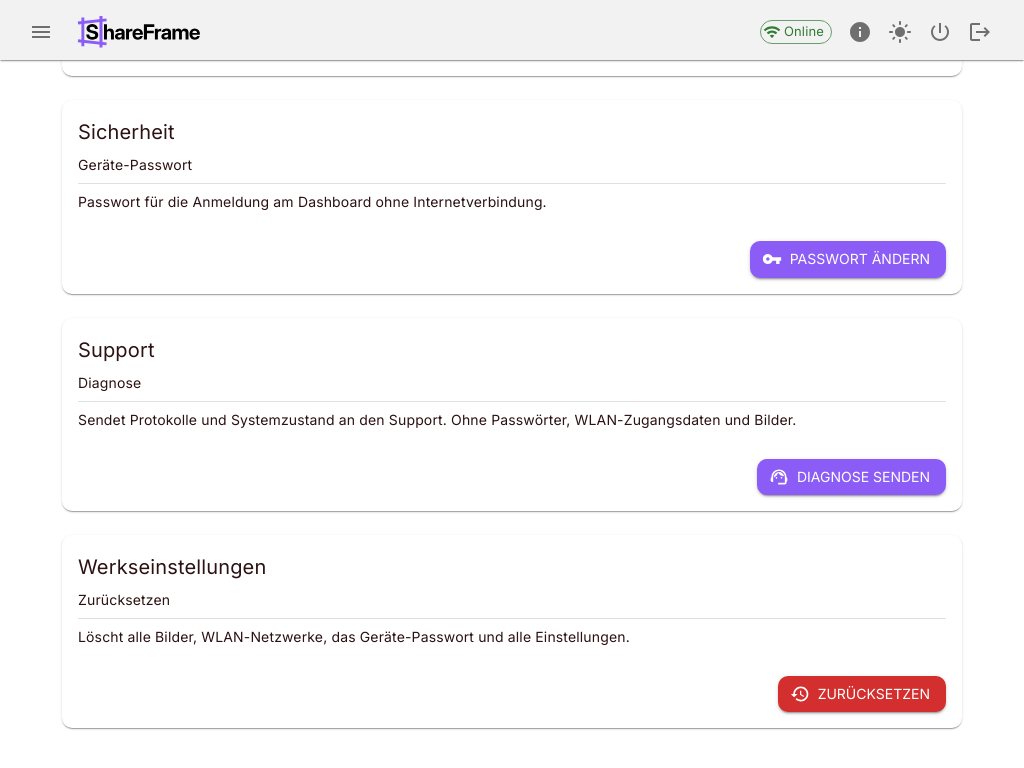
Test: power › stays put when the board refuses to reset
The image size is (1024, 768).
(page scrolled)
What coordinates should you click on to do the following:
click the button "Zurücksetzen"
I would click on:
 (862, 694)
Its box is x1=778 y1=676 x2=946 y2=712.
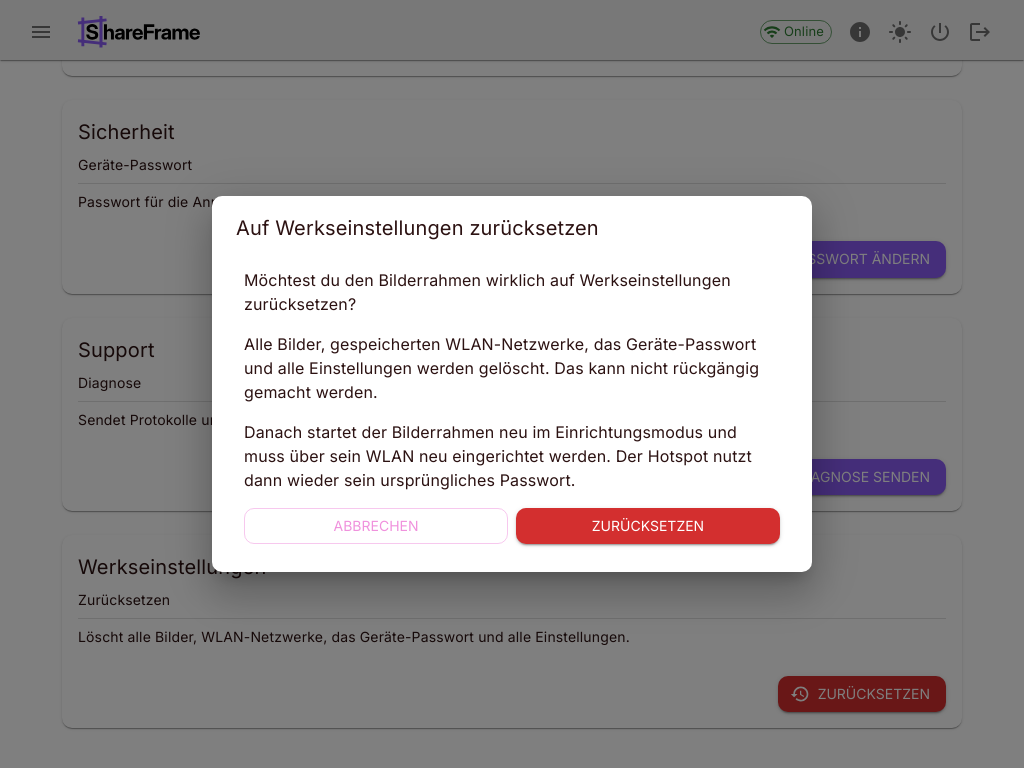
What coordinates should you click on to do the following:
click the button "Zurücksetzen"
I would click on:
 (648, 526)
Its box is x1=516 y1=508 x2=780 y2=544.
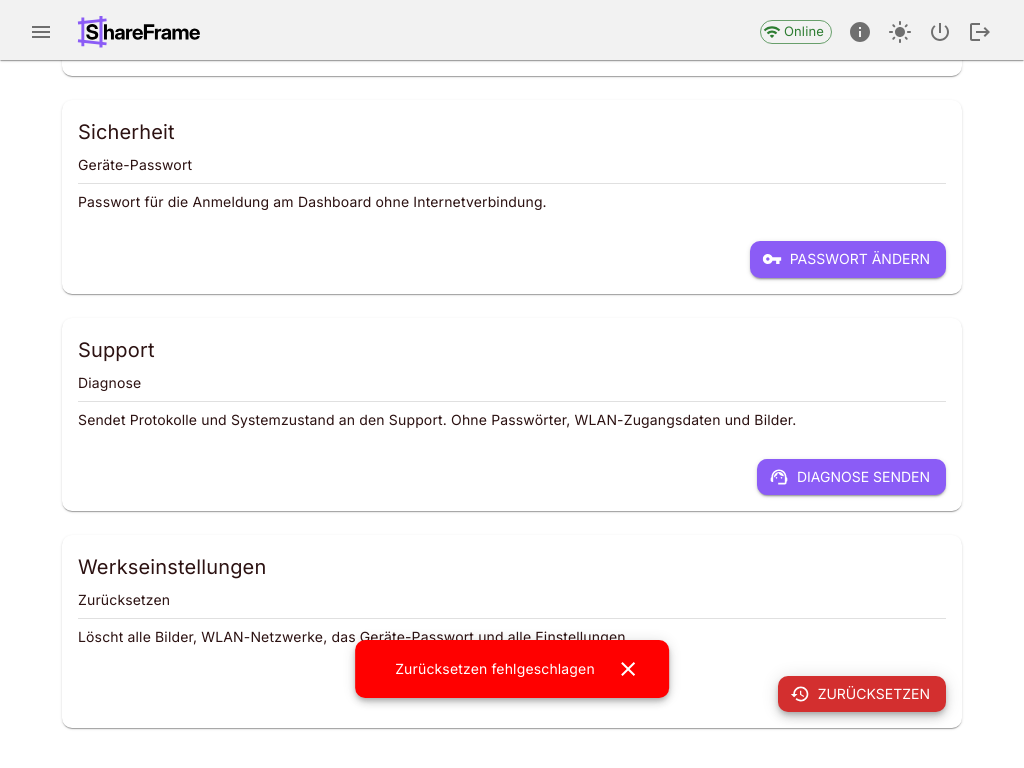
Now the heading "Zurücksetzen fehlgeschlagen" is shown, box x1=395 y1=658 x2=595 y2=680
